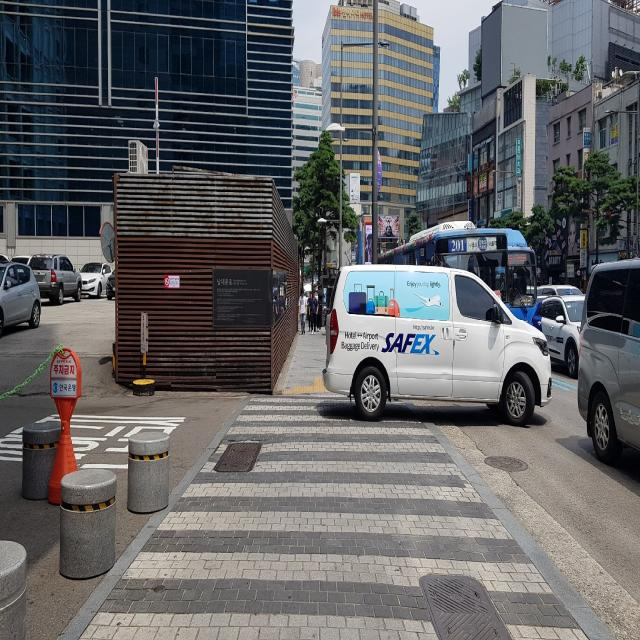횡단보도: (81, 394, 585, 636)
